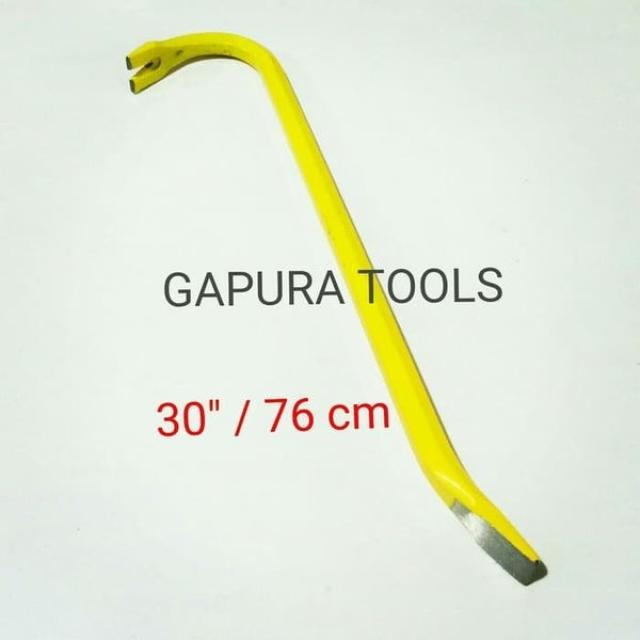Linggis: (128, 29, 553, 585)
